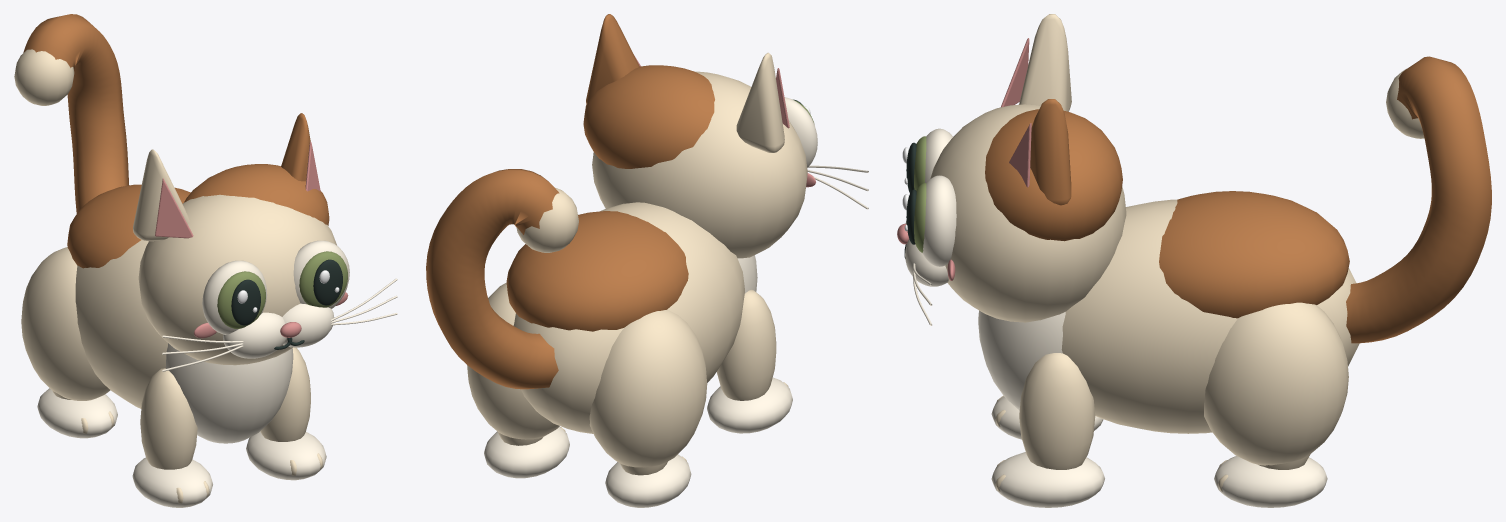
Rendered from cottage-cat.glb.
The picture shows the model from 3 angles, left to right: view 1: azimuth 30°, elevation 25°; view 2: azimuth 150°, elevation 25°; view 3: azimuth 270°, elevation 25°; orthographic projection. The views are drawn at different scales.
Visible parts, largest first — view 1: Kitten face, Curled caramel tail, Plush pear body, Cream chest, Round haunch, Caramel saddle, Tapered leg, Forehead caramel cap, White mitten paw, White mitten paw.002, White mitten paw.001, Cream tail tip (+13 smaller); view 2: Kitten face, Curled caramel tail, Caramel saddle, Plush pear body, Round haunch, Forehead caramel cap, Tapered leg, Round haunch.001, Velvet triangular ear, White mitten paw, White mitten paw.001, White mitten paw.003 (+4 smaller); view 3: Plush pear body, Curled caramel tail, Caramel saddle, Round haunch.001, Kitten face, Forehead caramel cap, Tapered leg.002, Cream chest, White mitten paw.002, White mitten paw.003, Velvet triangular ear.001, Velvet triangular ear (+8 smaller).
Part boxes in pixels (x1=…): Kitten face: x1=138, y1=194, x2=336, y2=365; Curled caramel tail: x1=23, y1=14, x2=129, y2=213; Plush pear body: x1=75, y1=240, x2=167, y2=408; Cream chest: x1=165, y1=343, x2=293, y2=443; Round haunch: x1=21, y1=247, x2=110, y2=400; Caramel saddle: x1=67, y1=184, x2=190, y2=268; Tapered leg: x1=140, y1=368, x2=197, y2=469; Forehead caramel cap: x1=184, y1=164, x2=329, y2=225; White mitten paw: x1=132, y1=457, x2=212, y2=507; White mitten paw.002: x1=246, y1=431, x2=326, y2=480; White mitten paw.001: x1=37, y1=388, x2=117, y2=438; Cream tail tip: x1=14, y1=49, x2=74, y2=105; Kitten face: x1=592, y1=71, x2=807, y2=258; Curled caramel tail: x1=426, y1=169, x2=559, y2=389; Caramel saddle: x1=506, y1=211, x2=688, y2=331; Plush pear body: x1=513, y1=202, x2=744, y2=433; Round haunch: x1=589, y1=310, x2=707, y2=467; Forehead caramel cap: x1=583, y1=65, x2=714, y2=168; Tapered leg: x1=717, y1=289, x2=776, y2=400; Round haunch.001: x1=467, y1=282, x2=559, y2=439; Velvet triangular ear: x1=736, y1=52, x2=784, y2=152; White mitten paw: x1=707, y1=377, x2=792, y2=433; White mitten paw.001: x1=605, y1=454, x2=691, y2=507; White mitten paw.003: x1=484, y1=427, x2=569, y2=478; Plush pear body: x1=1061, y1=199, x2=1359, y2=433; Curled caramel tail: x1=1346, y1=56, x2=1491, y2=343; Caramel saddle: x1=1159, y1=191, x2=1349, y2=318; Round haunch.001: x1=1204, y1=302, x2=1348, y2=465; Kitten face: x1=930, y1=104, x2=1126, y2=322; Forehead caramel cap: x1=985, y1=109, x2=1122, y2=241; Tapered leg.002: x1=1019, y1=353, x2=1095, y2=469; Cream chest: x1=978, y1=310, x2=1065, y2=410; White mitten paw.002: x1=991, y1=452, x2=1104, y2=507; White mitten paw.003: x1=1214, y1=456, x2=1327, y2=507; Velvet triangular ear.001: x1=1030, y1=99, x2=1071, y2=205; Velvet triangular ear: x1=1019, y1=14, x2=1071, y2=111.
Size of the model in its own units: 0.6417 by 0.9207 by 1.2.
